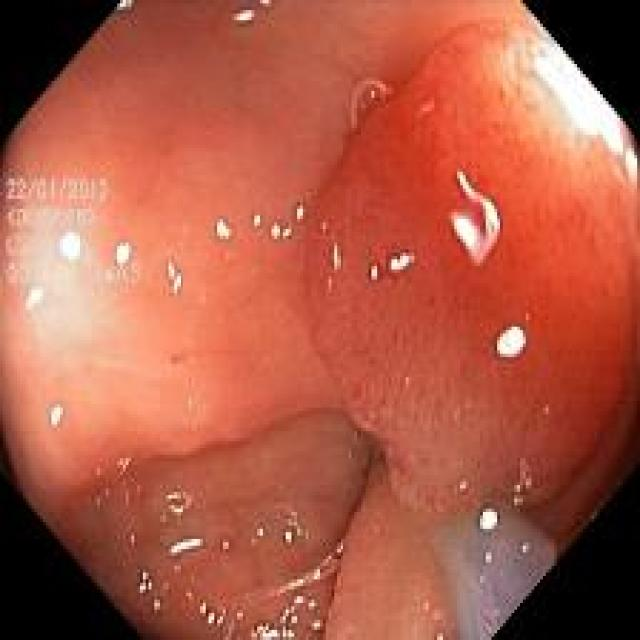Polyps: (309, 22, 640, 518)
